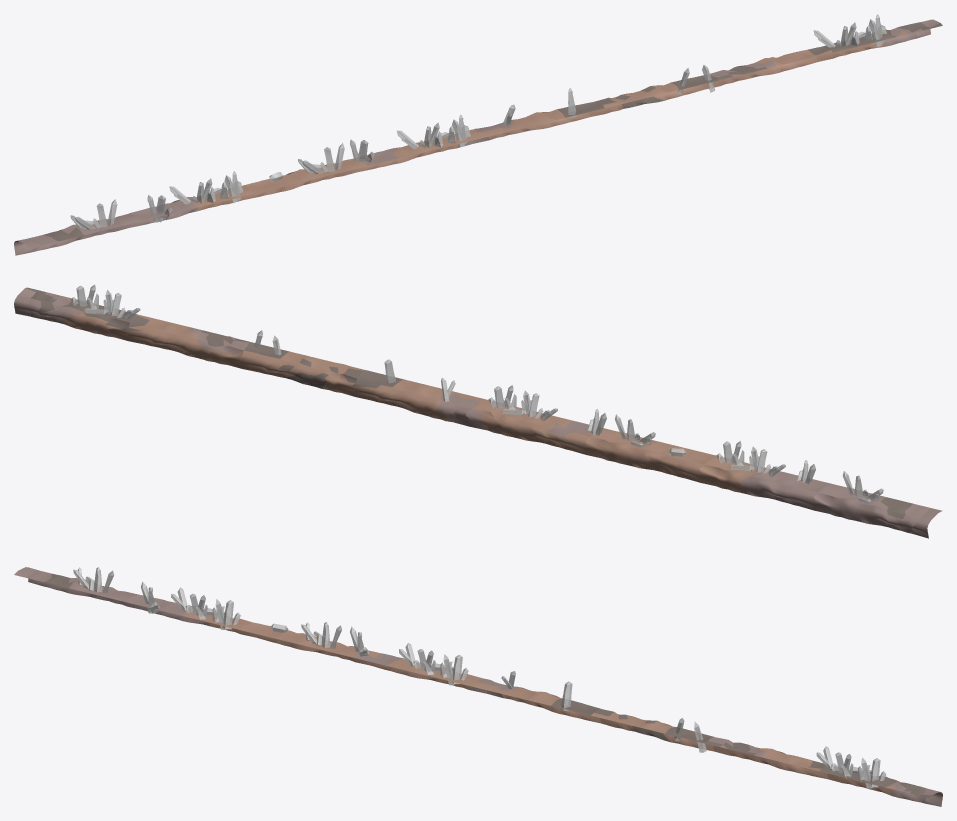
Rendered from front.fbx.
3 views of the same model, one above another, from view 1: azimuth 30°, elevation 25°; view 2: azimuth 150°, elevation 25°; view 3: azimuth 330°, elevation 25° (orthographic).
Parts seen in each view (by area): view 1: polySurface168; view 2: polySurface168; view 3: polySurface168.
Part boxes in pixels (x1=…): polySurface168: x1=14, y1=14, x2=942, y2=255; polySurface168: x1=14, y1=284, x2=942, y2=538; polySurface168: x1=14, y1=567, x2=942, y2=806.
Size of the model in its own units: 248 by 10.6 by 8.81.
